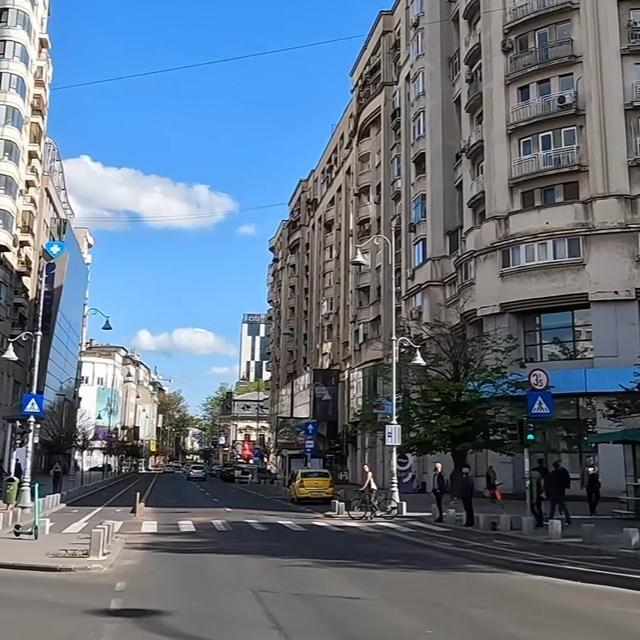info_crosswalk: (527, 390, 554, 417), (22, 393, 44, 416)
